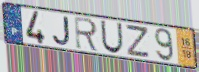4: (25, 9, 48, 45)
9: (153, 28, 176, 64)
J: (52, 15, 72, 47)
R: (73, 15, 100, 54)
U: (100, 19, 124, 55)
Z: (126, 24, 151, 60)
